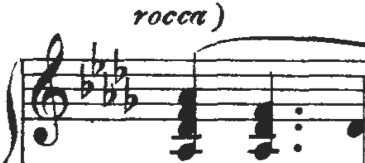flat: (121, 74, 144, 125), (109, 42, 133, 89), (86, 34, 109, 81), (75, 58, 98, 103), (100, 65, 118, 111)
treble_clef: (26, 33, 75, 159)
